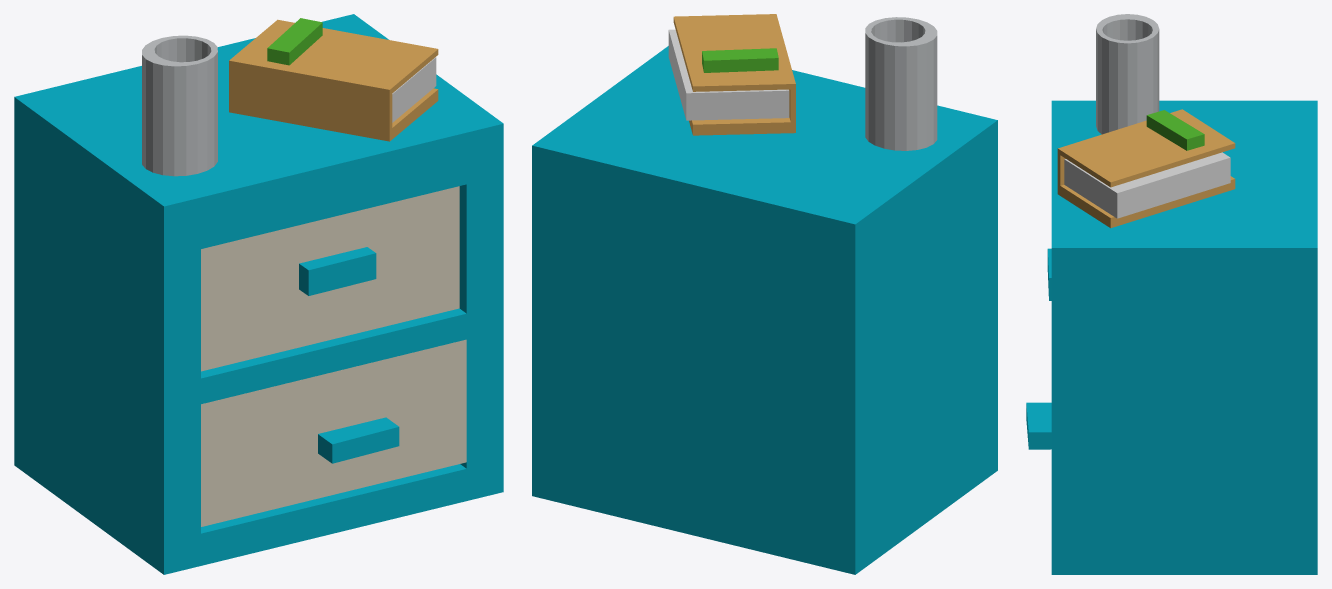
Rendered from Dazzling Gaaris-Allis.glb.
3 renders of one model, left to right at view 1: azimuth 30°, elevation 25°; view 2: azimuth 150°, elevation 25°; view 3: azimuth 270°, elevation 25°, orthographic. The views are drawn at different scales.
Parts seen in each view (by area): view 1: Mesh_Mesh_head_geo.001_lambert2SG.001; view 2: Mesh_Mesh_head_geo.001_lambert2SG.001; view 3: Mesh_Mesh_head_geo.001_lambert2SG.001.
Boxes of the visible parts, x1=… form: Mesh_Mesh_head_geo.001_lambert2SG.001: x1=14, y1=14, x2=503, y2=574; Mesh_Mesh_head_geo.001_lambert2SG.001: x1=532, y1=14, x2=997, y2=574; Mesh_Mesh_head_geo.001_lambert2SG.001: x1=1026, y1=14, x2=1317, y2=574.
Bounding box in the file's own units: 55 × 74 × 46.
